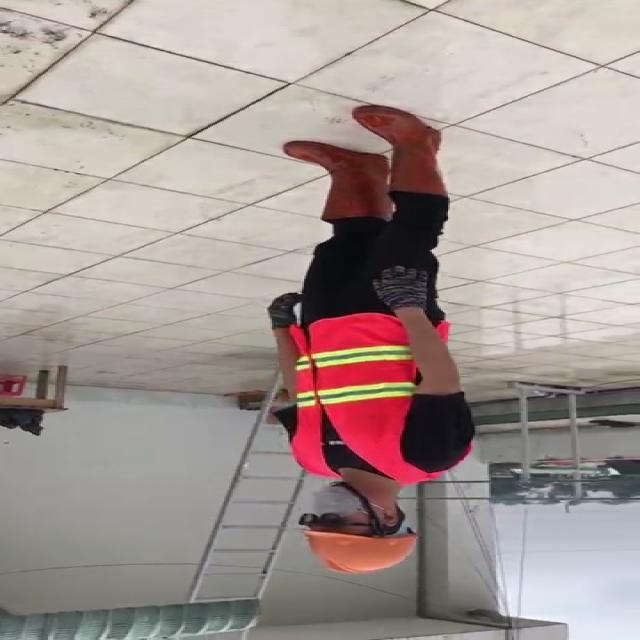gloves: (372, 268, 434, 307), (265, 289, 306, 330)
